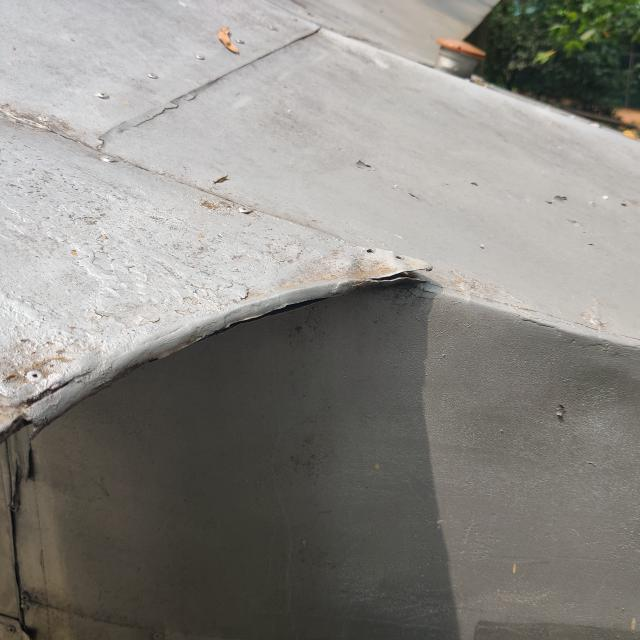crack: (0, 350, 107, 416), (358, 259, 438, 297)
